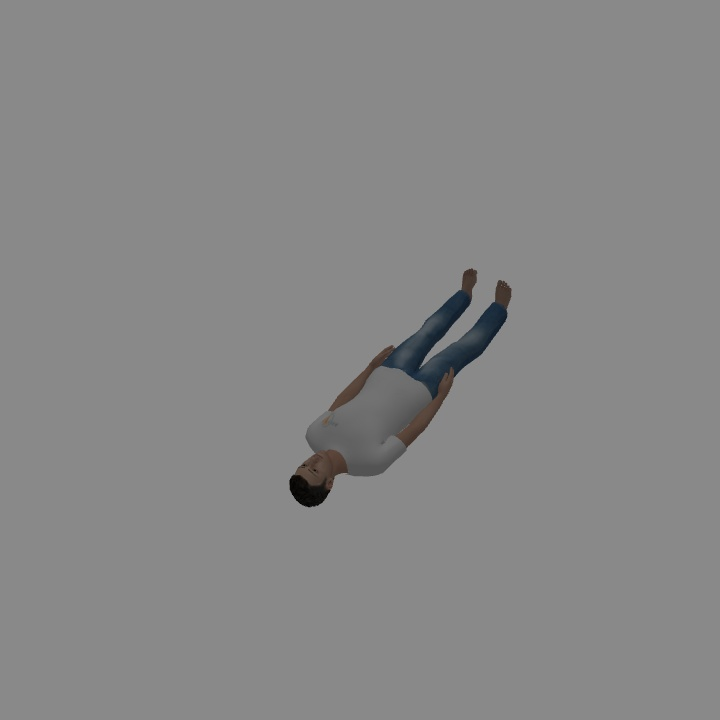victim: (291, 269, 509, 504)
